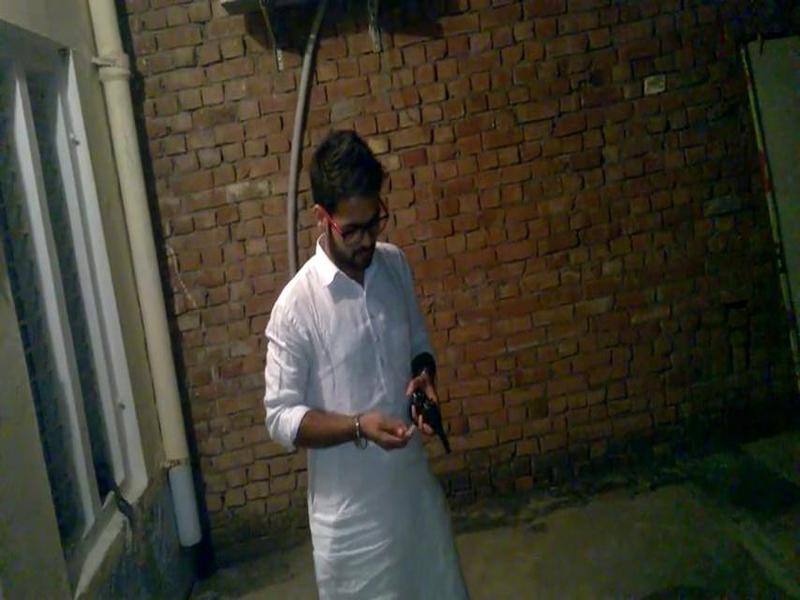Revolver: (388, 365, 469, 474)
